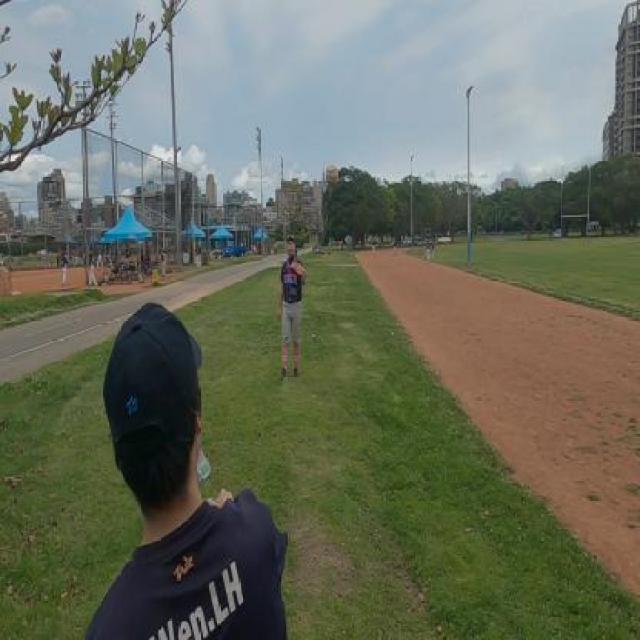baseball: (324, 164, 338, 188)
